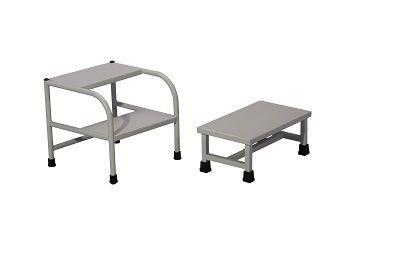stool: (39, 56, 182, 185), (194, 97, 316, 190)
